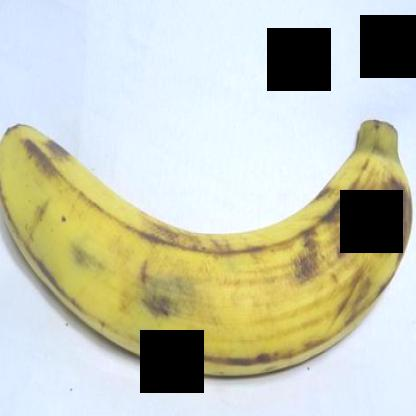overripe: (1, 109, 415, 387)
